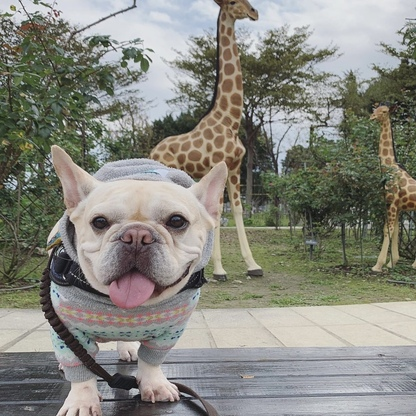bulldog: (37, 145, 228, 416)
